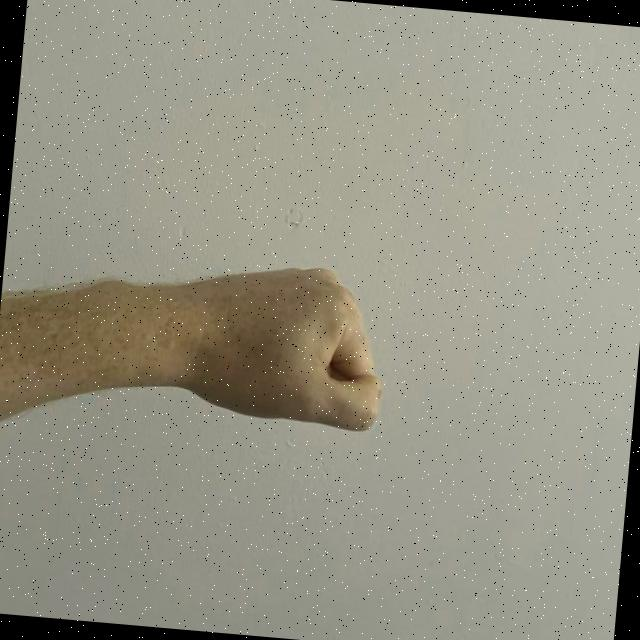rock: (181, 250, 396, 438)
